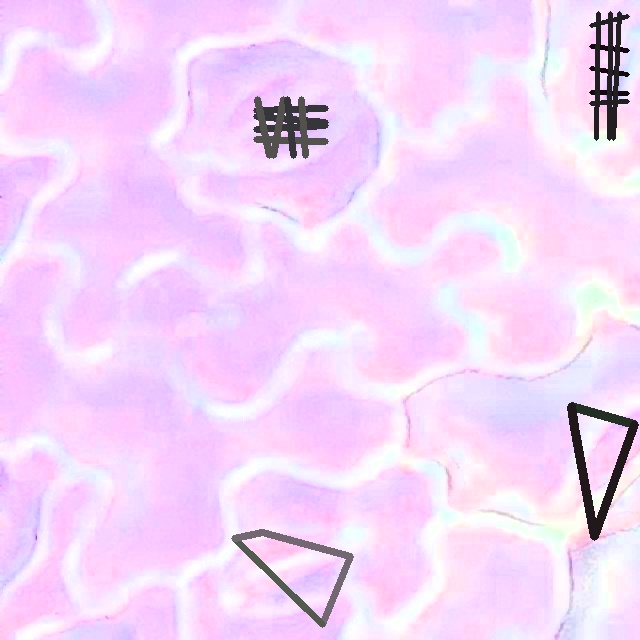open: (232, 530, 352, 626), (571, 403, 638, 539), (589, 11, 629, 140), (253, 96, 328, 158)
